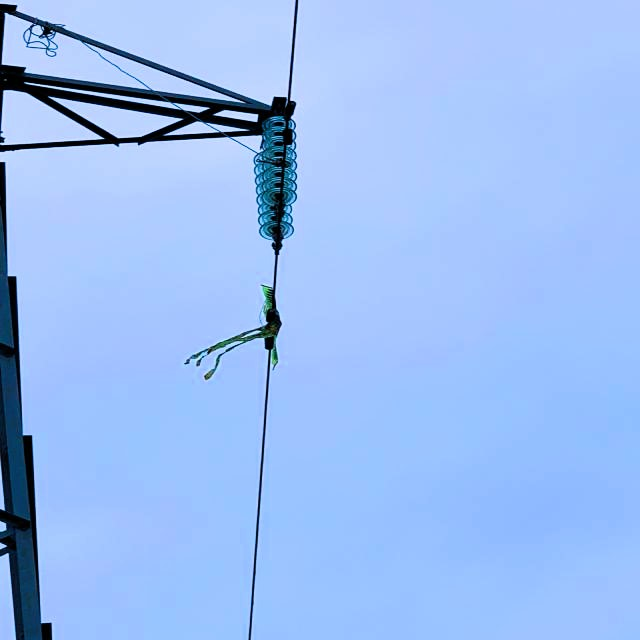wire foreign body: (170, 275, 308, 390)
